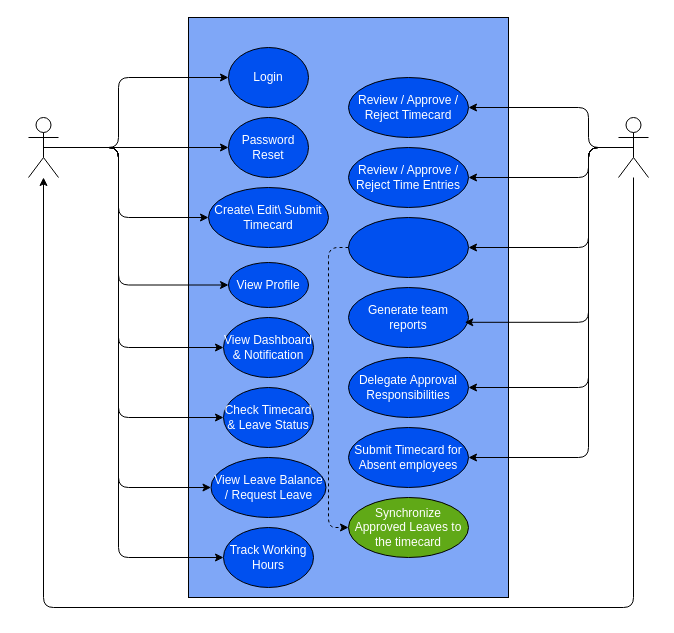
Some shapes in this 674 by 633 pixel diagram are drawn without their labels. Here are the shapes that lost their labels. From the top down, the box of each, then its label:
(28, 116, 58, 178): Employee
(618, 116, 648, 178): Manager
(348, 216, 468, 278): Review / Approve / Reject Leave Requests
(188, 16, 508, 598): Use Case
